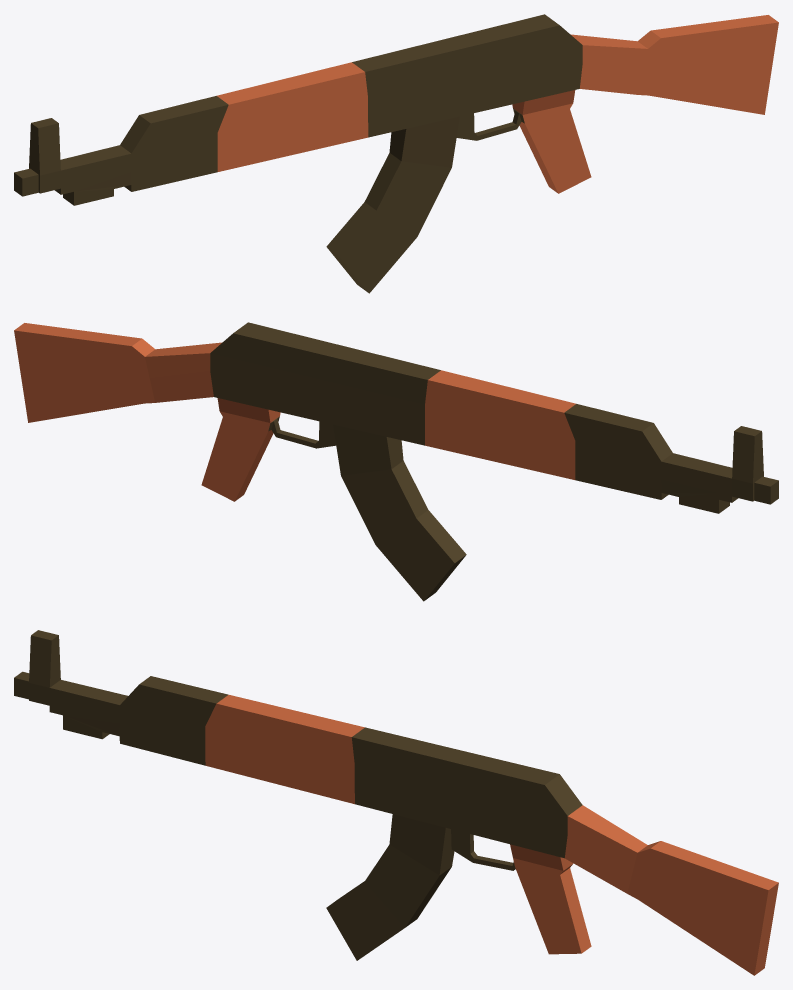
File: Type56Rifle.fbx
The picture shows the model from 3 angles, top to bottom: view 1: azimuth 30°, elevation 25°; view 2: azimuth 150°, elevation 25°; view 3: azimuth 330°, elevation 25°; orthographic projection.
Visible parts, largest first — view 1: Type56Rifle; view 2: Type56Rifle; view 3: Type56Rifle.
Boxes of the visible parts, box(x1,y1,x2,y2) form: Type56Rifle: box(14, 14, 778, 293); Type56Rifle: box(14, 322, 778, 601); Type56Rifle: box(14, 630, 778, 975).
Bounding box in the file's own units: 87.84 × 27.08 × 3.02.
